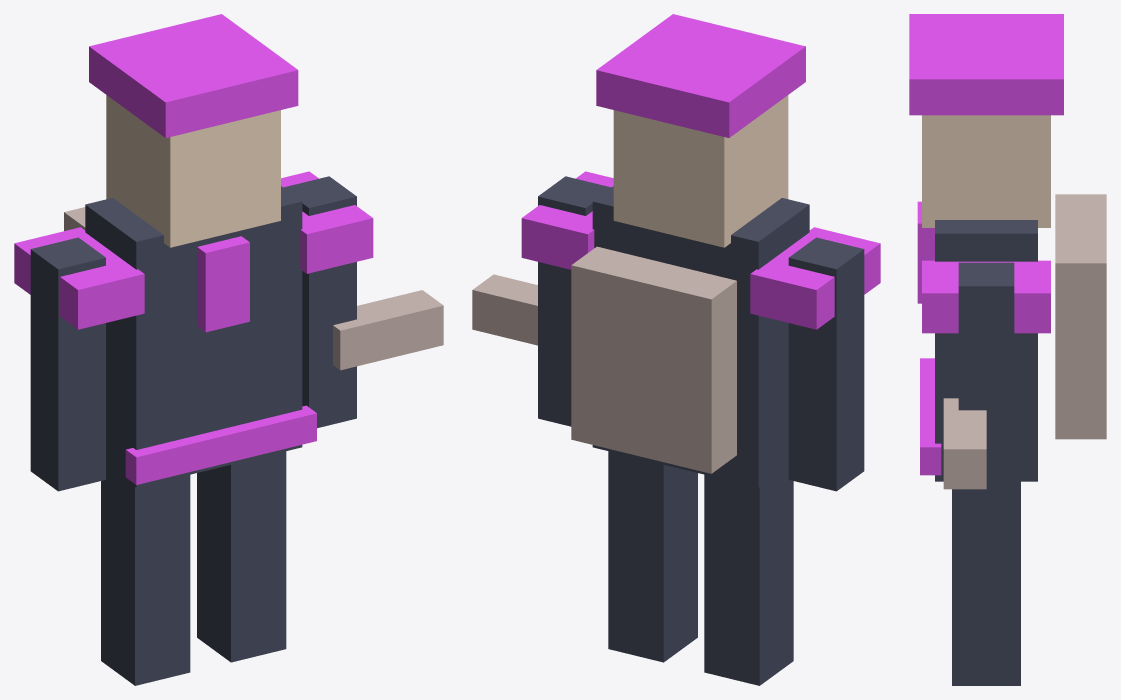
The model's file is 05_makoa_runeclasp_sentinel_near_corporate.glb.
3 views of the same model, side by side, from view 1: azimuth 30°, elevation 25°; view 2: azimuth 150°, elevation 25°; view 3: azimuth 270°, elevation 25° (orthographic).
Visible parts, largest first — view 1: Makoa Runeclasp, Sentinel near Corporate; view 2: Makoa Runeclasp, Sentinel near Corporate; view 3: Makoa Runeclasp, Sentinel near Corporate.
Part boxes in pixels (left/top/right/bottom): Makoa Runeclasp, Sentinel near Corporate: left=14, top=14, right=443, bottom=685; Makoa Runeclasp, Sentinel near Corporate: left=472, top=14, right=880, bottom=685; Makoa Runeclasp, Sentinel near Corporate: left=909, top=14, right=1106, bottom=685.
Size of the model in its own units: 1.06 by 1.6 by 0.4748.
